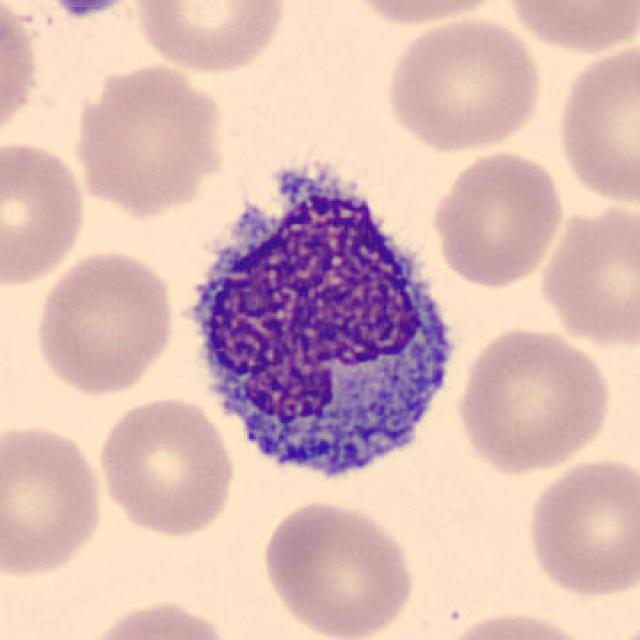Monocyte: (169, 154, 467, 496)
Platelets: (44, 0, 138, 19)
RBC: (70, 60, 230, 219), (452, 323, 615, 476), (380, 12, 548, 155), (256, 495, 421, 640), (30, 245, 180, 399), (92, 392, 238, 540), (429, 146, 567, 289), (0, 419, 108, 580), (523, 455, 638, 599), (534, 197, 638, 351), (551, 39, 638, 210), (0, 136, 91, 289), (130, 0, 290, 76), (500, 0, 638, 55), (80, 596, 235, 640), (0, 0, 44, 151), (430, 608, 601, 640), (340, 0, 516, 28), (601, 615, 638, 640)
